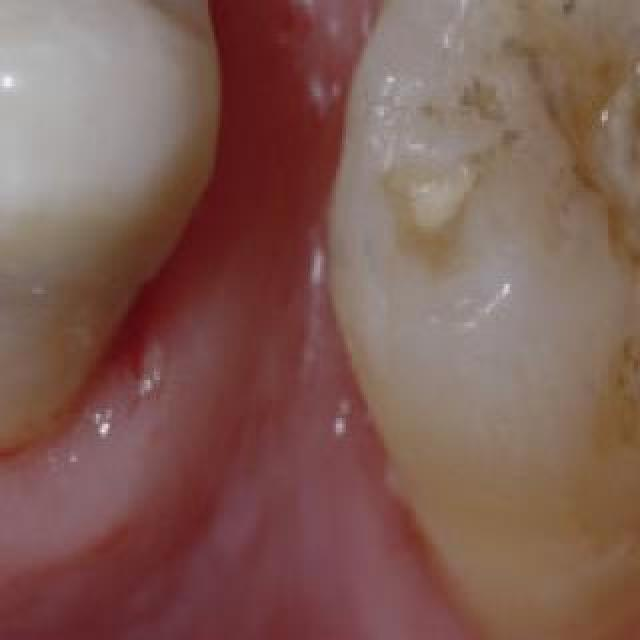spacing: (164, 0, 444, 374)
stains: (316, 0, 640, 592)
